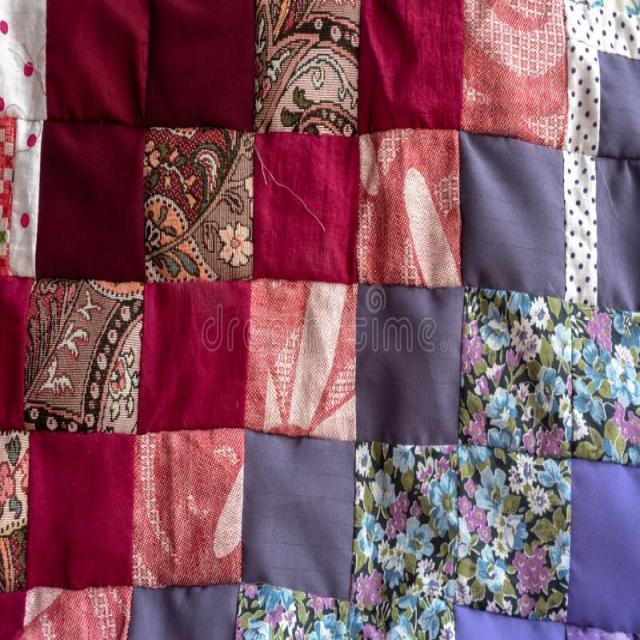clothes: (53, 69, 589, 615)
